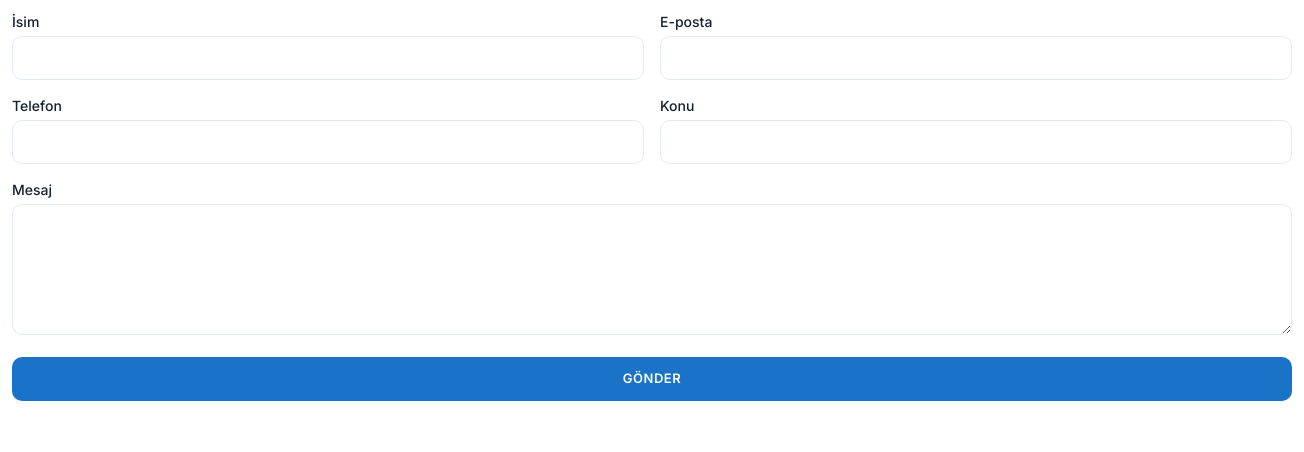
ContactForm › server action hata dönerse hata mesajını gösterir
The width and height of the screenshot is (1304, 452).
Type "Ayşe Yılmaz" into the field labelled "İsim".
click(328, 58); type("Ayşe Yılmaz")  # box [12, 36, 644, 80]
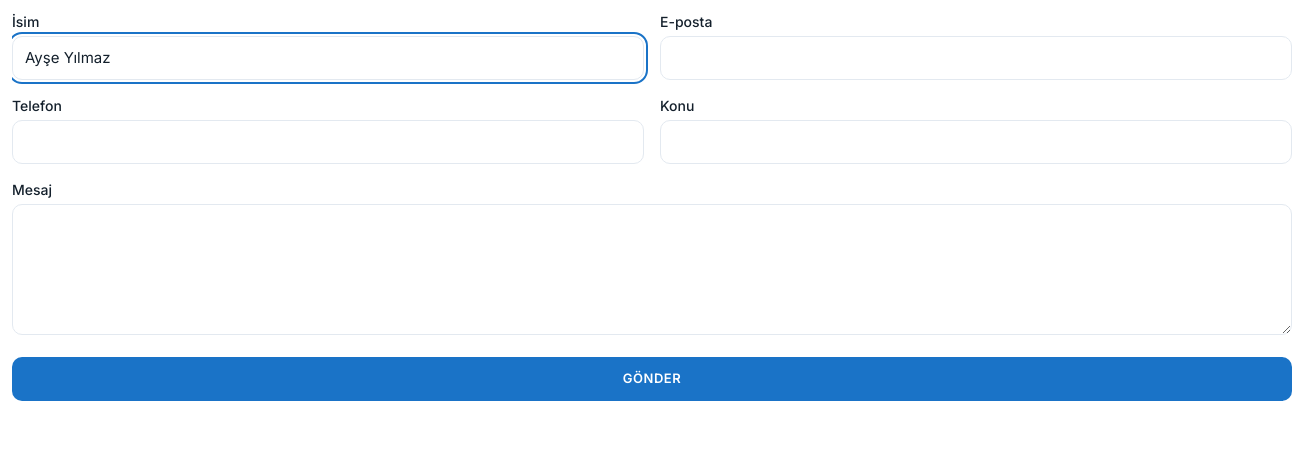
Type "ayse@example.com" into the field labelled "E-posta".
click(976, 58); type("ayse@example.com")  # box [660, 36, 1292, 80]
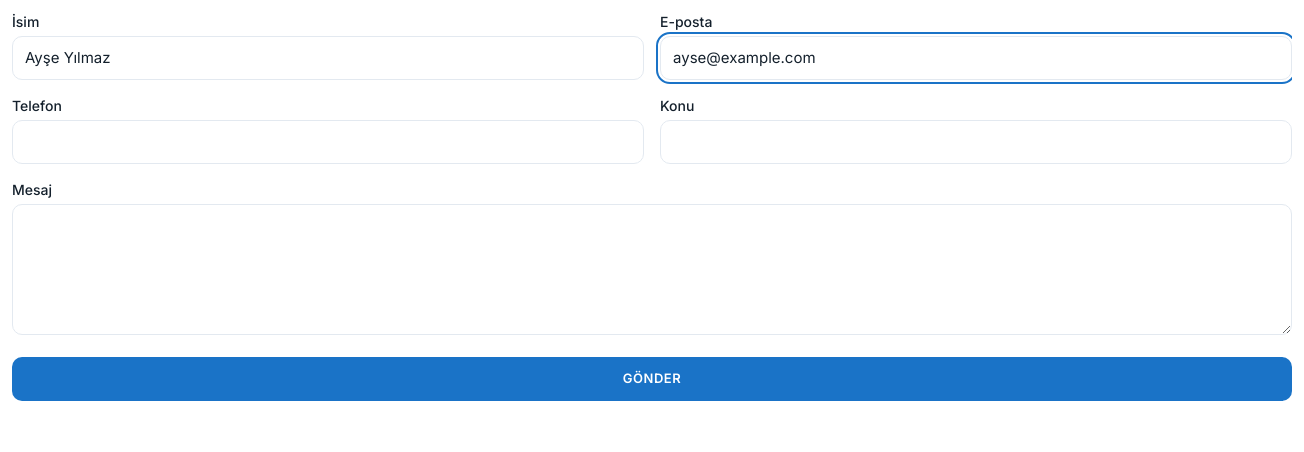
Type "05551234567" into the field labelled "Telefon".
click(328, 142); type("05551234567")  # box [12, 120, 644, 164]
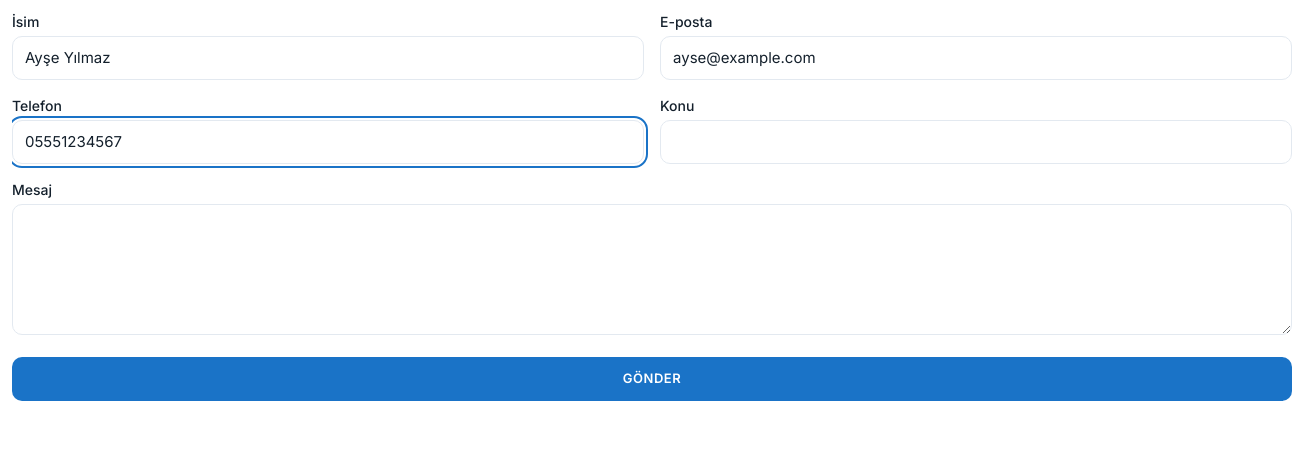
Type "Bilgi Talebi" into the field labelled "Konu".
click(976, 142); type("Bilgi Talebi")  # box [660, 120, 1292, 164]
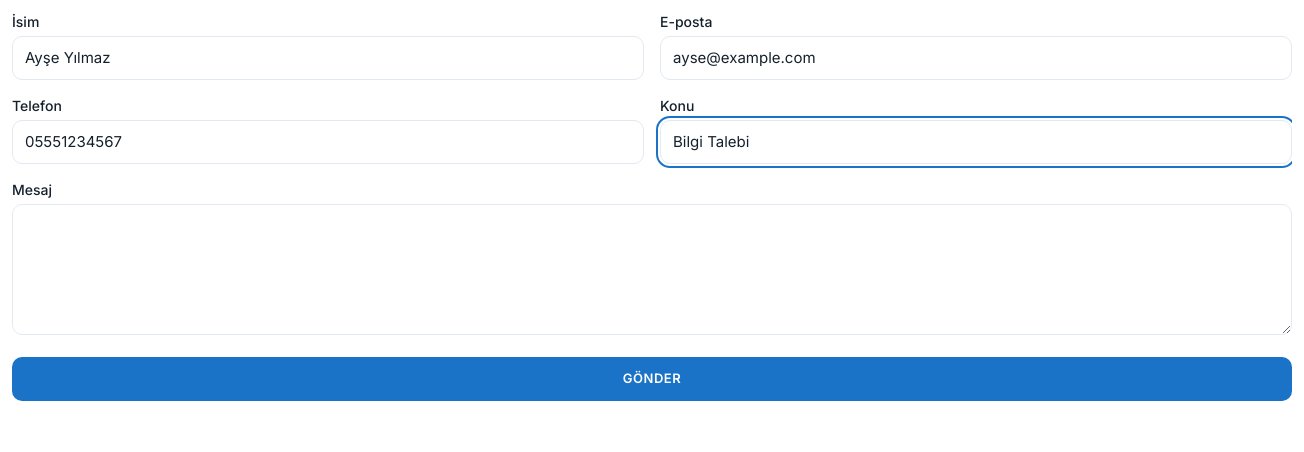
Type "Merhaba, menünüz hakkında bilgi almak istiyorum." into the text box labelled "Mesaj".
click(652, 269); type("Merhaba, menünüz hakkında bilgi almak istiyorum.")  # box [12, 204, 1292, 334]
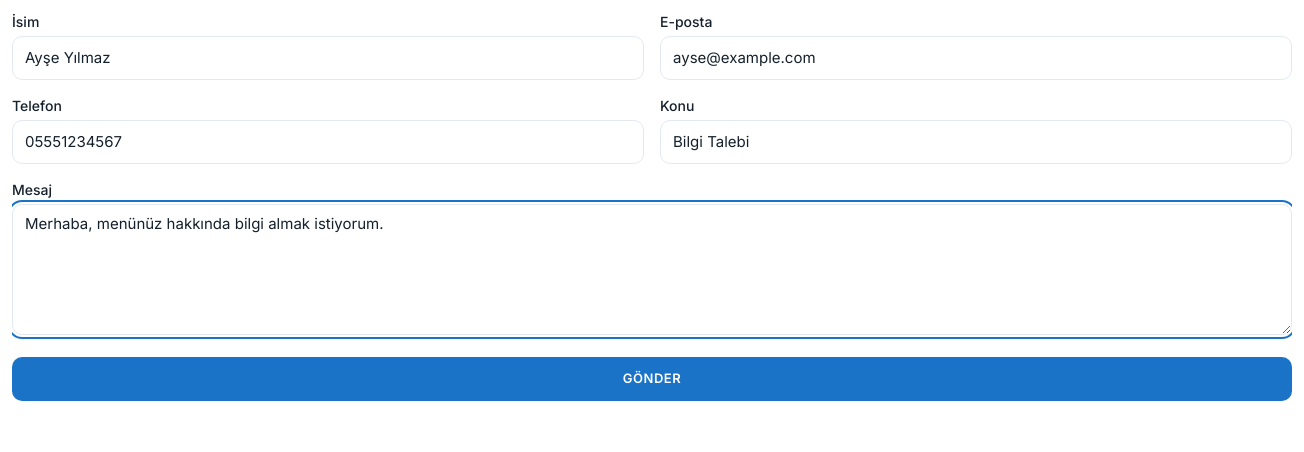
Click the button "Gönder".
click(652, 378)  # box [12, 356, 1292, 400]
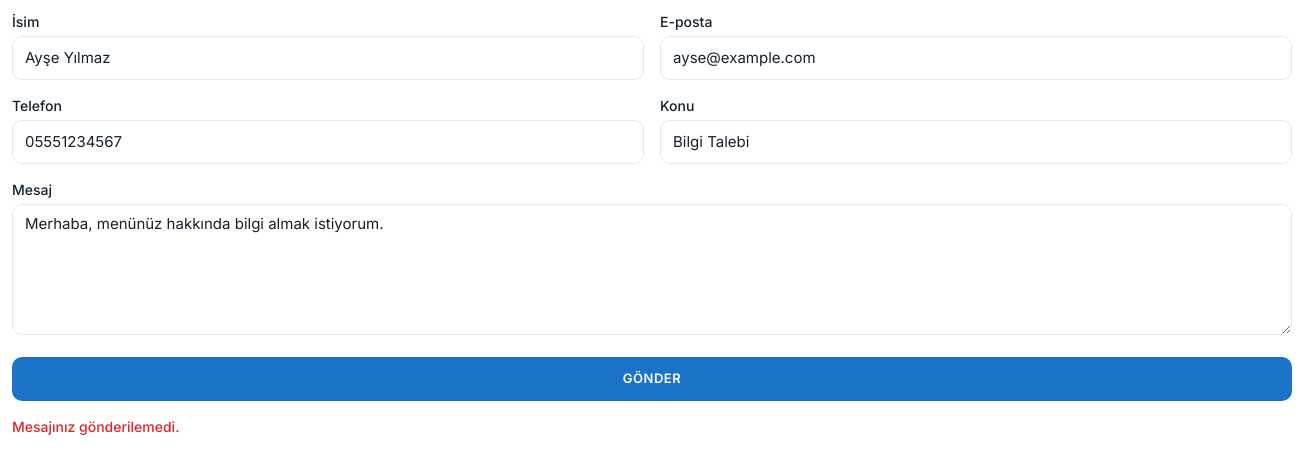
Expected: the message reads "Mesajınız gönderilemedi.", [12, 418, 179, 434]
